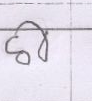i_matra: (23, 19, 52, 62)
